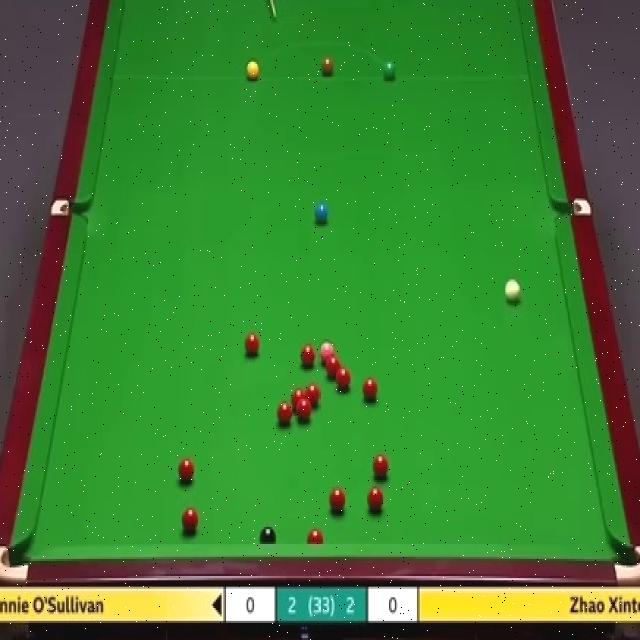black-ball: (258, 522, 276, 548)
blue-ball: (315, 204, 329, 224)
brown-ball: (321, 59, 334, 79)
green-ball: (382, 59, 398, 82)
pink-ball: (318, 339, 334, 363)
red-ball: (366, 484, 385, 514), (371, 452, 390, 481), (177, 456, 196, 484), (329, 485, 347, 513), (242, 331, 260, 358), (181, 506, 199, 532), (335, 368, 352, 395), (299, 342, 316, 368), (276, 401, 293, 425), (296, 396, 312, 421), (306, 382, 322, 407), (363, 377, 378, 402), (325, 356, 341, 376), (306, 528, 324, 544), (292, 388, 306, 406)
white-ball: (505, 277, 521, 303)
yellow-ball: (246, 57, 259, 81)
